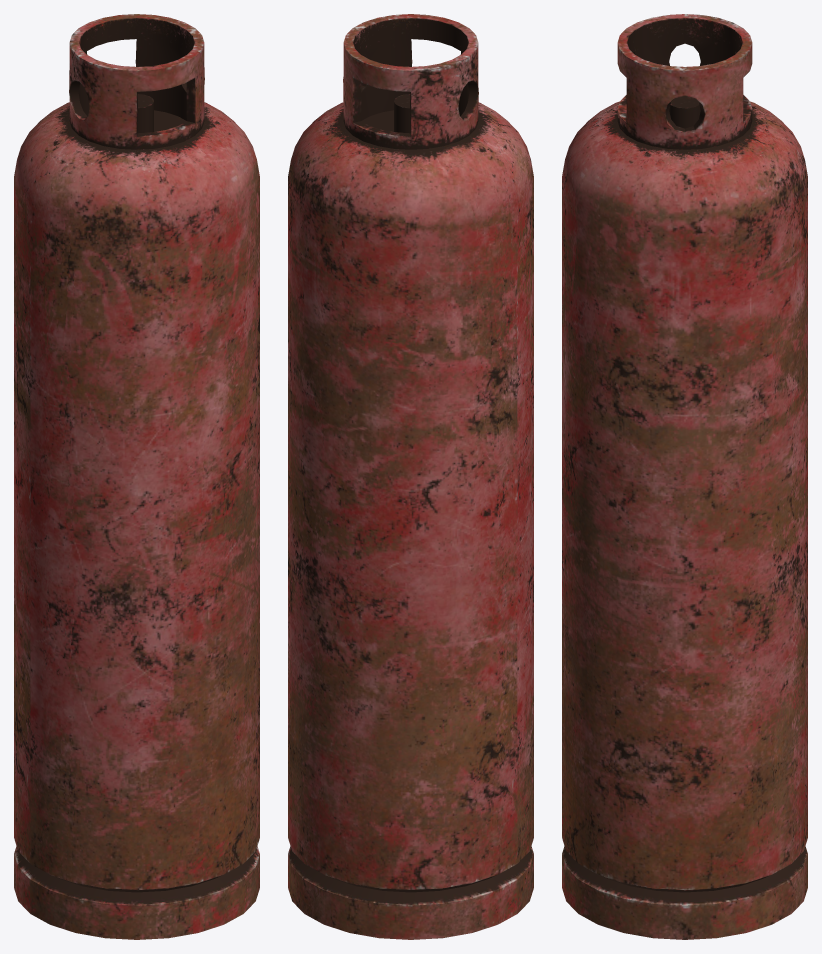
Rendered from Component_GasB_grp.fbx.
3 renders of one model, left to right at view 1: azimuth 30°, elevation 25°; view 2: azimuth 150°, elevation 25°; view 3: azimuth 270°, elevation 25°, orthographic.
Visible parts, largest first — view 1: gasB_cans; view 2: gasB_cans; view 3: gasB_cans.
Boxes of the visible parts, box(x1,y1,x2,y2) form: gasB_cans: box(14, 14, 259, 939); gasB_cans: box(288, 14, 533, 939); gasB_cans: box(562, 14, 807, 939).
Bounding box in the file's own units: 37.5 × 142 × 37.5.
